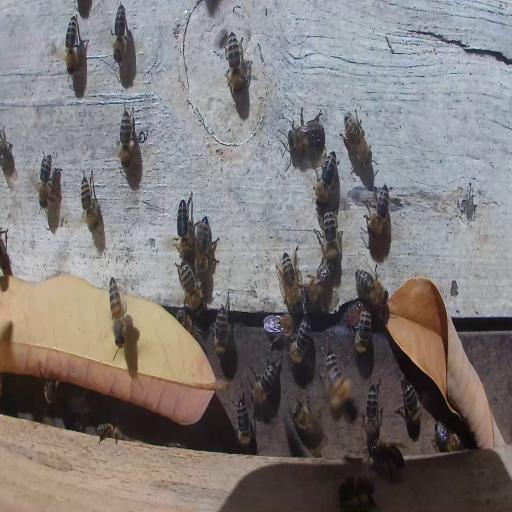nonpollenbee: (340, 112, 373, 168), (370, 435, 406, 482), (224, 32, 248, 97), (288, 118, 325, 160), (276, 247, 300, 311), (174, 192, 194, 262), (314, 148, 338, 206), (79, 171, 102, 231), (366, 182, 391, 237), (339, 474, 376, 511), (176, 264, 204, 312), (290, 400, 320, 444), (355, 266, 387, 307), (401, 380, 422, 438), (64, 14, 83, 76), (319, 211, 341, 262), (118, 105, 134, 170), (289, 318, 312, 363), (250, 364, 277, 402), (235, 394, 254, 448), (308, 261, 332, 303), (38, 150, 54, 212), (364, 381, 381, 439), (195, 216, 211, 276), (112, 3, 128, 62), (212, 302, 229, 356), (354, 304, 372, 355), (433, 423, 462, 453), (262, 315, 296, 338), (1, 133, 17, 179), (0, 229, 12, 286), (96, 421, 122, 442), (43, 378, 59, 406)
pollenbee: (328, 371, 360, 426), (108, 273, 129, 349)
